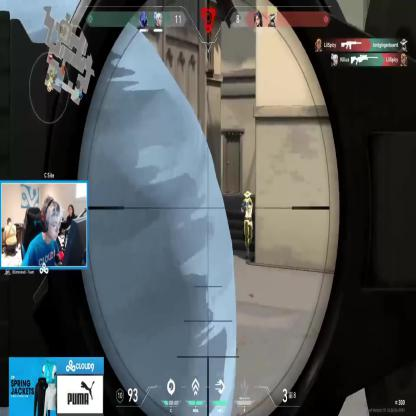enemy: (239, 188, 254, 258)
enemy_head: (245, 192, 250, 200)
